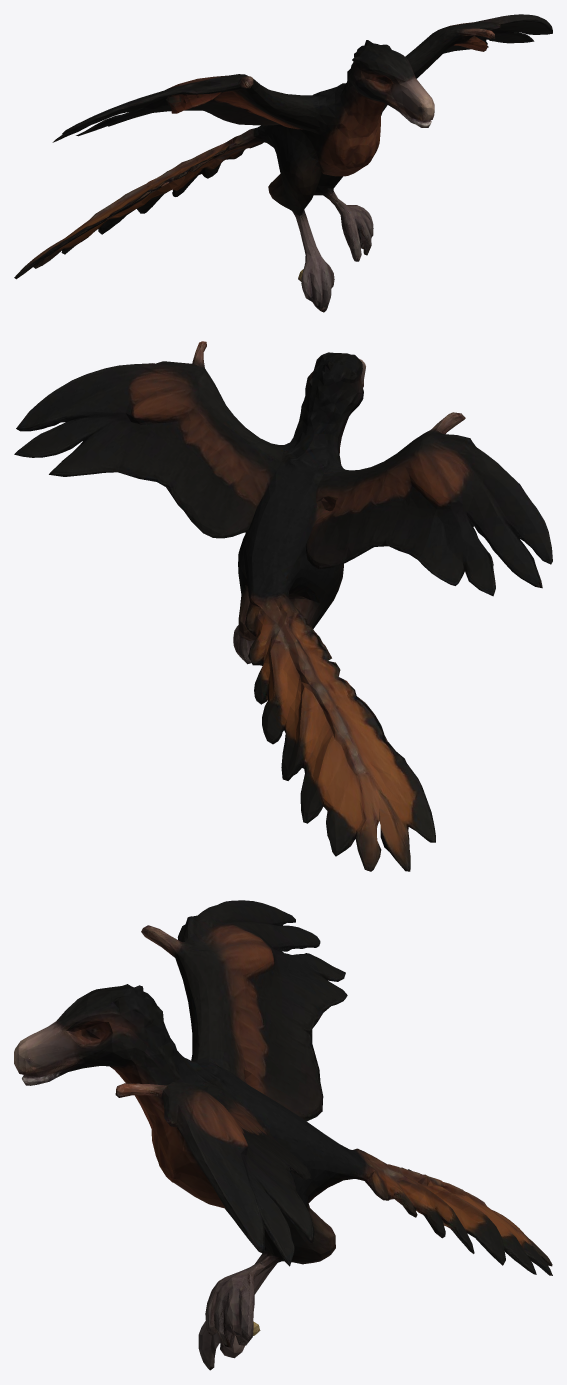
File: archaeopteryx.glb
The picture shows the model from 3 angles, top to bottom: view 1: azimuth 30°, elevation 25°; view 2: azimuth 150°, elevation 25°; view 3: azimuth 270°, elevation 25°; orthographic projection. The views are drawn at different scales.
Visible parts, largest first — view 1: geometry_0; view 2: geometry_0; view 3: geometry_0.
Boxes of the visible parts, x1,y1,x2,y2 form: geometry_0: (14, 14, 552, 312); geometry_0: (14, 341, 552, 871); geometry_0: (14, 900, 552, 1370).
Bounding box in the file's own units: 0.9917 × 0.5766 × 0.6954.
Materials: 1 (1 with a texture image).
